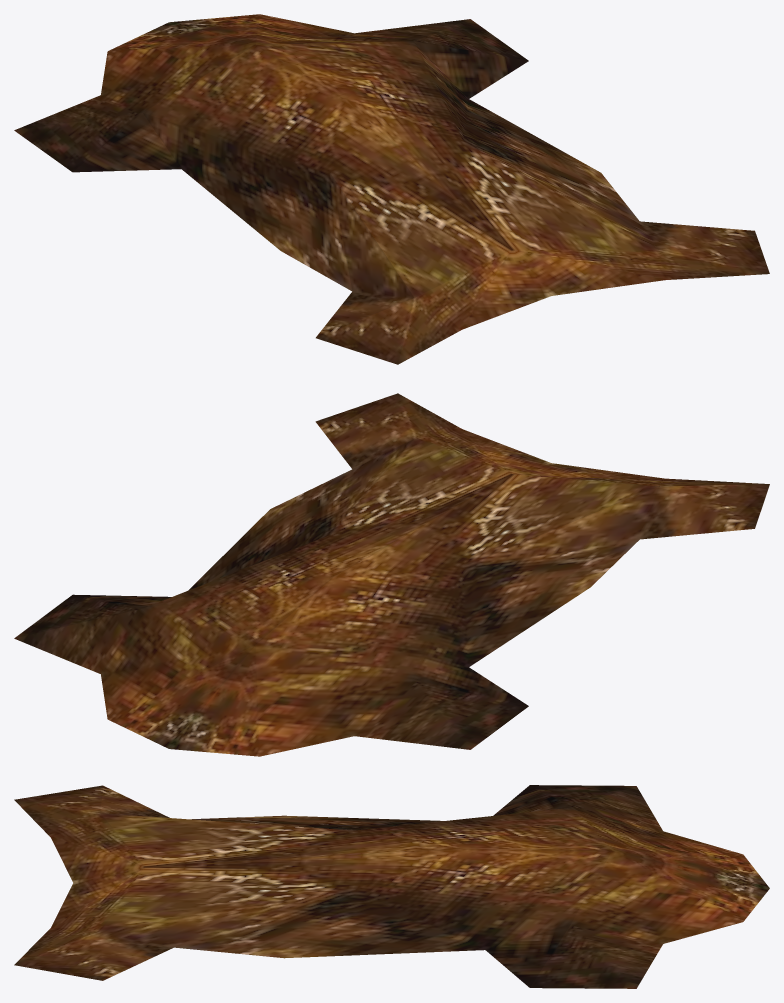
Rendered from ITAT_LURKERSKINFIX_G.glb.
The picture shows the model from 3 angles, top to bottom: view 1: azimuth 30°, elevation 25°; view 2: azimuth 150°, elevation 25°; view 3: azimuth 270°, elevation 25°; orthographic projection. The views are drawn at different scales.
Parts seen in each view (by area): view 1: ITAT_LURKERSKINFIX_G; view 2: ITAT_LURKERSKINFIX_G; view 3: ITAT_LURKERSKINFIX_G.
Part boxes in pixels (x1,y1,x2,y2): ITAT_LURKERSKINFIX_G: (14, 14, 769, 364); ITAT_LURKERSKINFIX_G: (14, 393, 769, 756); ITAT_LURKERSKINFIX_G: (14, 785, 769, 988).
Bounding box in the file's own units: 0.6049 × 0.0578 × 0.9521.
Materials: 1 (1 with a texture image).
